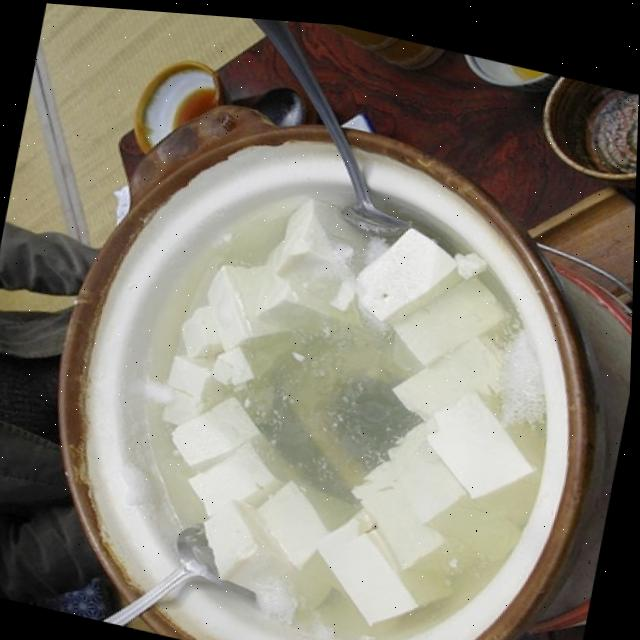豆腐料理: (4, 53, 639, 640)
